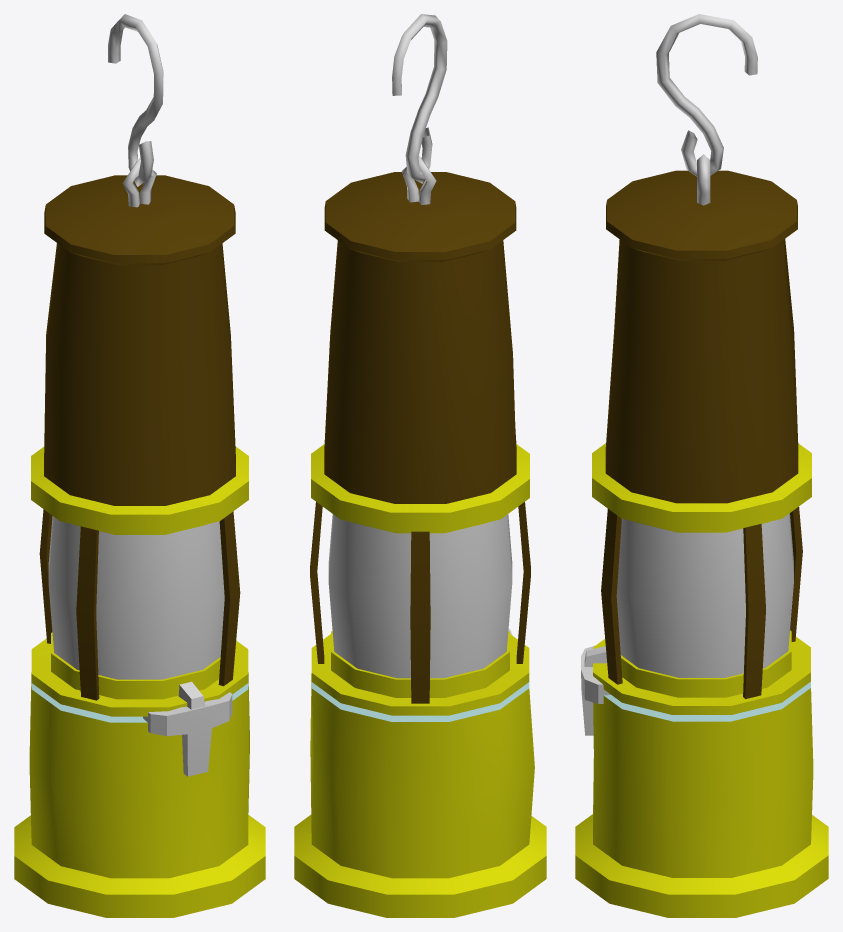
File: oil_lantern.fbx
3 views of the same model, side by side, from view 1: azimuth 30°, elevation 25°; view 2: azimuth 150°, elevation 25°; view 3: azimuth 270°, elevation 25° (orthographic).
Visible parts, largest first — view 1: Cylinder, Cylinder.001, Cube, BezierCurve.001, BezierCurve; view 2: Cylinder, Cylinder.001, BezierCurve.001, BezierCurve; view 3: Cylinder, Cylinder.001, BezierCurve.001, Cube, BezierCurve.
Boxes of the visible parts, bbox=[...] form: Cylinder: bbox=[14, 175, 265, 917]; Cylinder.001: bbox=[48, 516, 224, 679]; Cube: bbox=[143, 681, 232, 776]; BezierCurve.001: bbox=[108, 14, 163, 186]; BezierCurve: bbox=[122, 158, 156, 207]; Cylinder: bbox=[294, 172, 546, 917]; Cylinder.001: bbox=[328, 514, 512, 678]; BezierCurve.001: bbox=[392, 14, 447, 183]; BezierCurve: bbox=[401, 156, 436, 204]; Cylinder: bbox=[575, 170, 828, 917]; Cylinder.001: bbox=[616, 513, 793, 677]; BezierCurve.001: bbox=[656, 14, 757, 176]; Cube: bbox=[581, 645, 610, 735]; BezierCurve: bbox=[697, 154, 710, 205].
Bounding box in the file's own units: 70.06 × 260 × 70.06.
